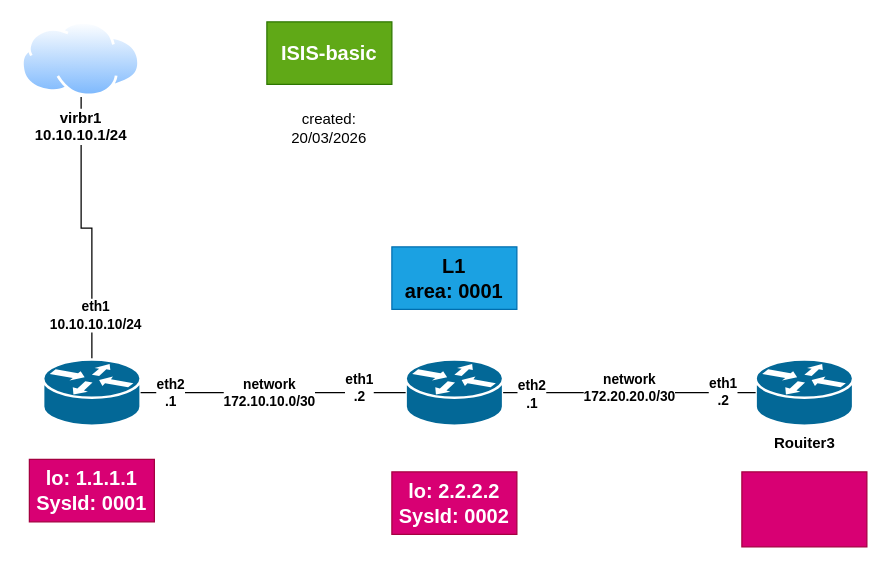
Some shapes in this 889 by 569 pixel diagram are drawn without their labels. Each missing label, with the centre of its shape:
"lo: 3.3.3.3 SysId: 0003" goes at pixel 804 509.
"Router1" goes at pixel 91 392.
"Router2" goes at pixel 454 392.
